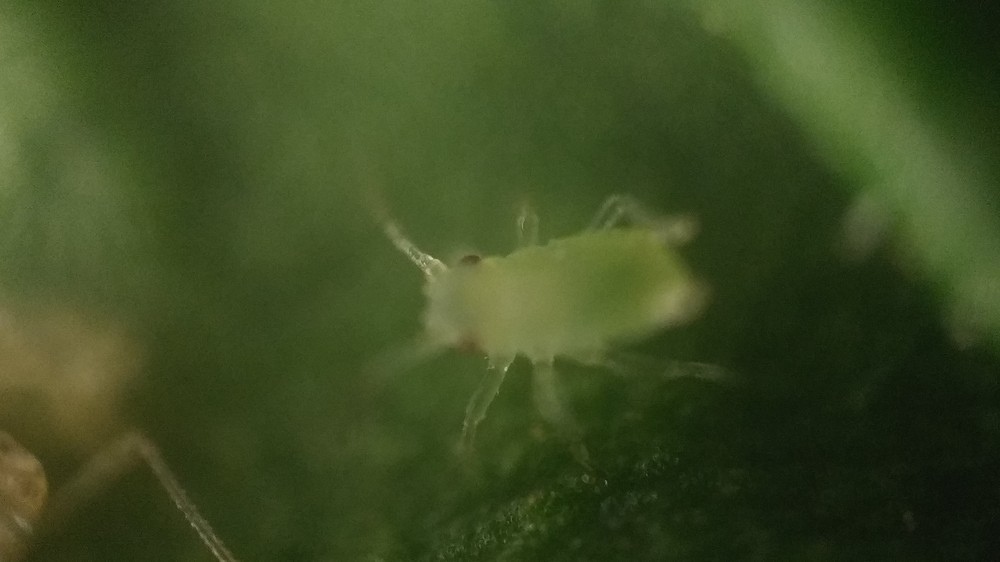Pulgon: (328, 180, 789, 461)
